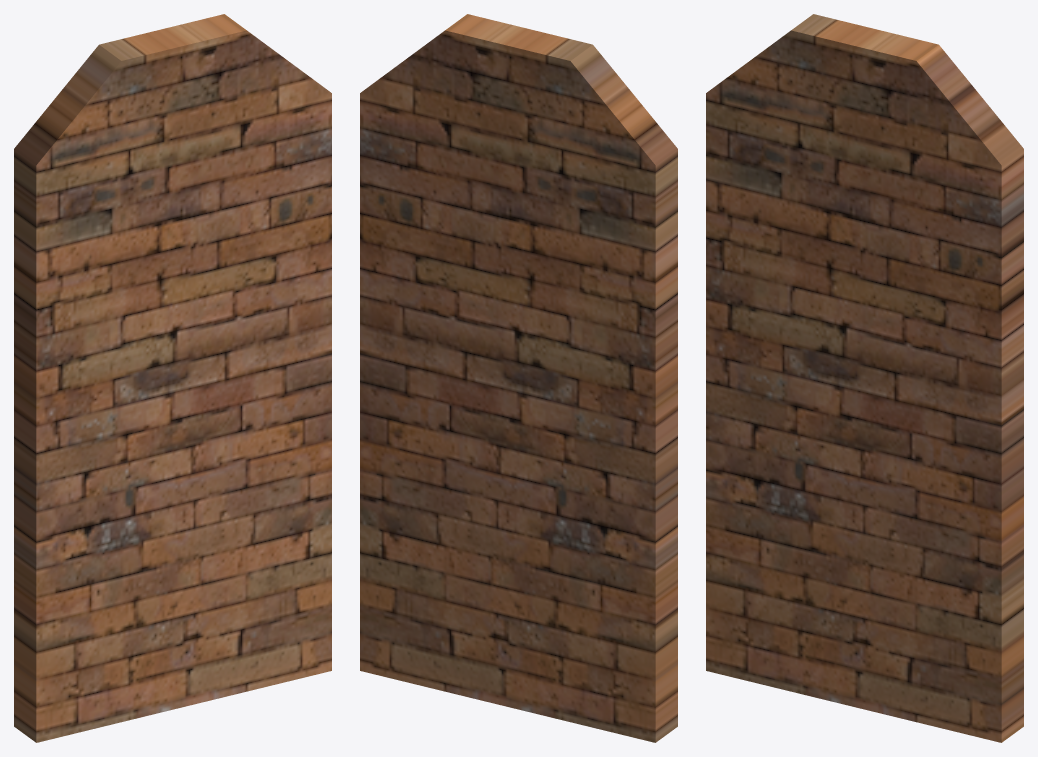
The model's file is BarredDoor.fbx.
The picture shows the model from 3 angles, left to right: view 1: azimuth 30°, elevation 25°; view 2: azimuth 150°, elevation 25°; view 3: azimuth 330°, elevation 25°; orthographic projection.
Visible parts, largest first — view 1: pCube1; view 2: pCube1; view 3: pCube1.
Part boxes in pixels (box(x1,y1,x2,y2)): pCube1: box(14, 14, 331, 742); pCube1: box(360, 14, 677, 742); pCube1: box(706, 14, 1023, 742).
Bounding box in the file's own units: 942 × 2014 × 124.
